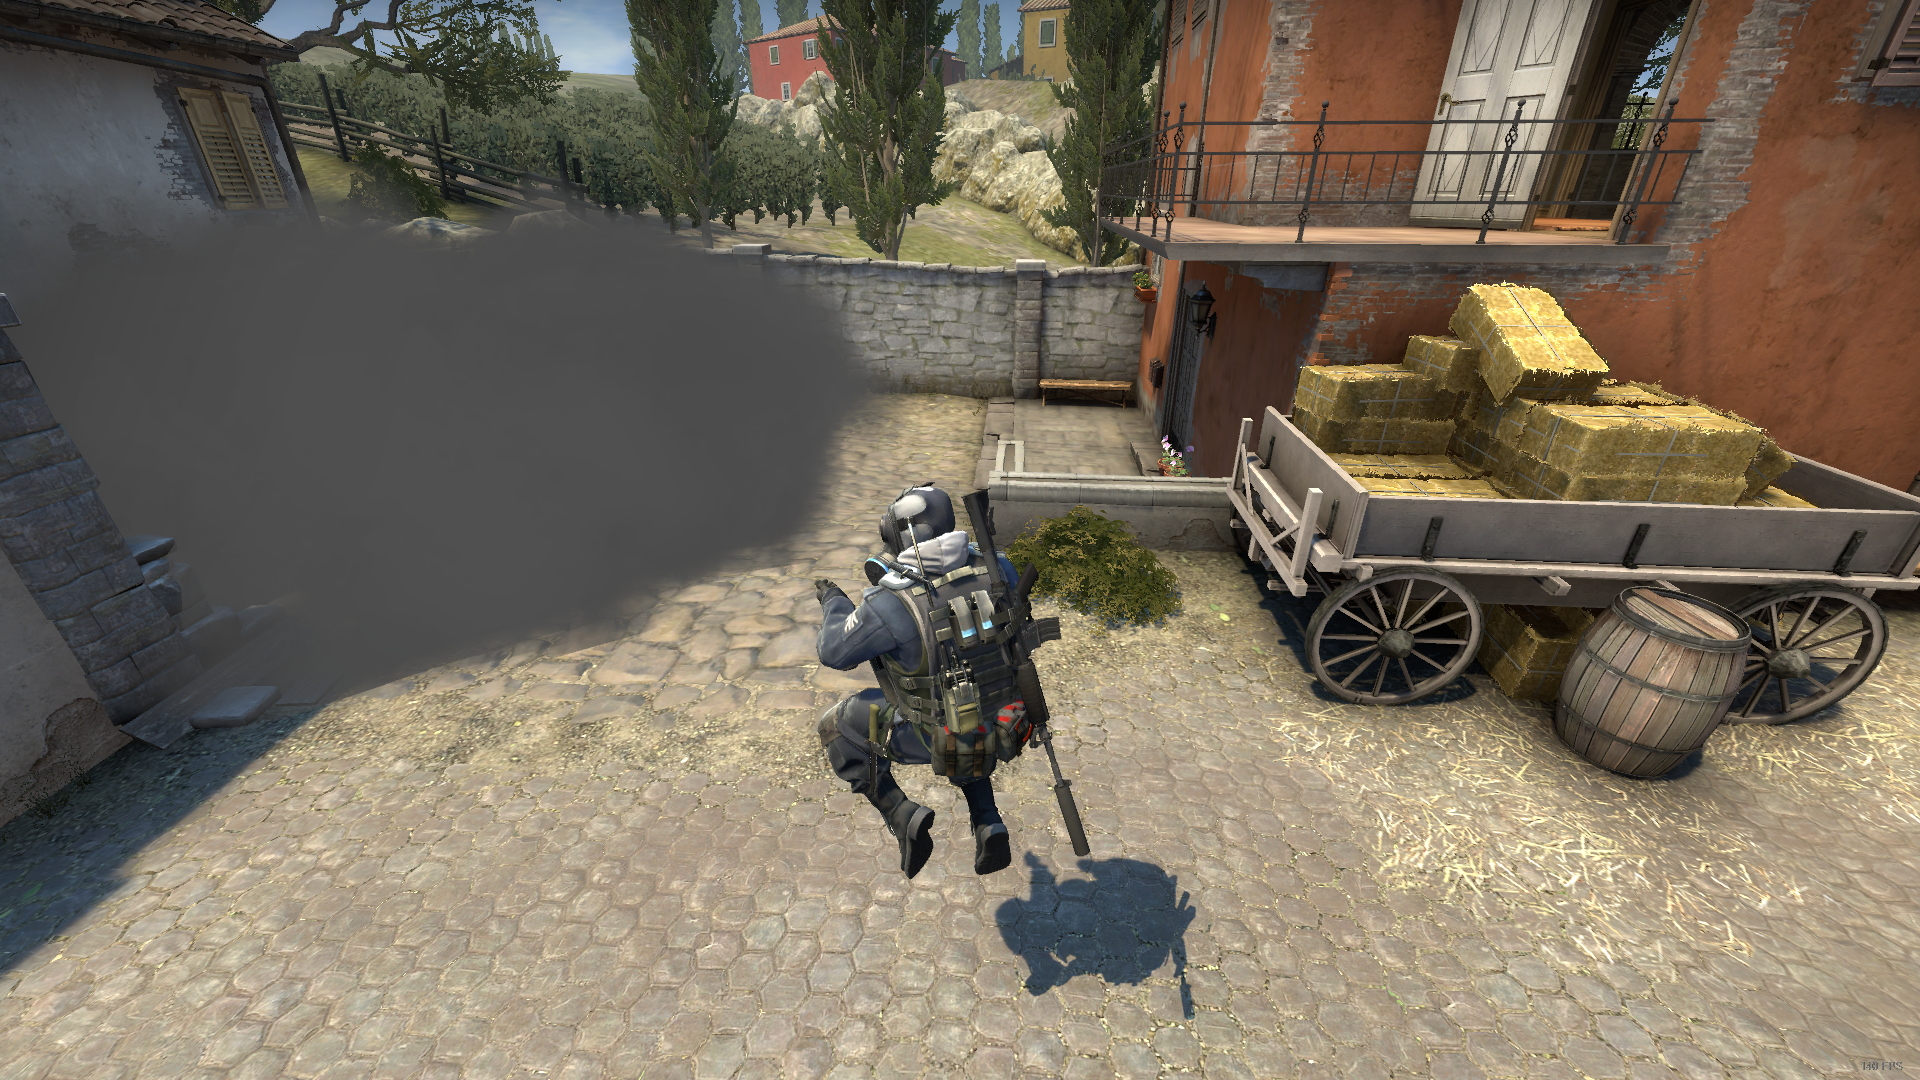ct: (815, 483, 1044, 880)
